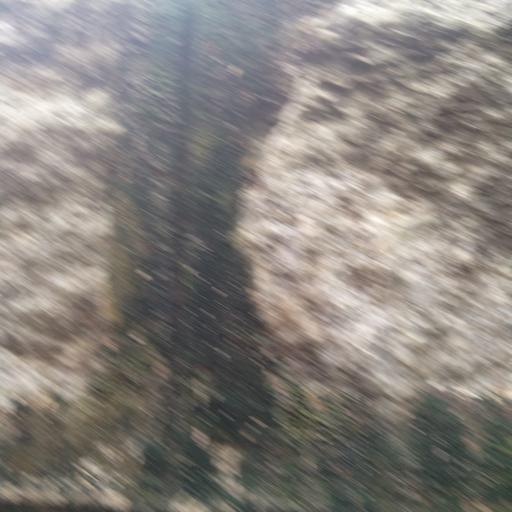algae: (61, 10, 463, 512)
